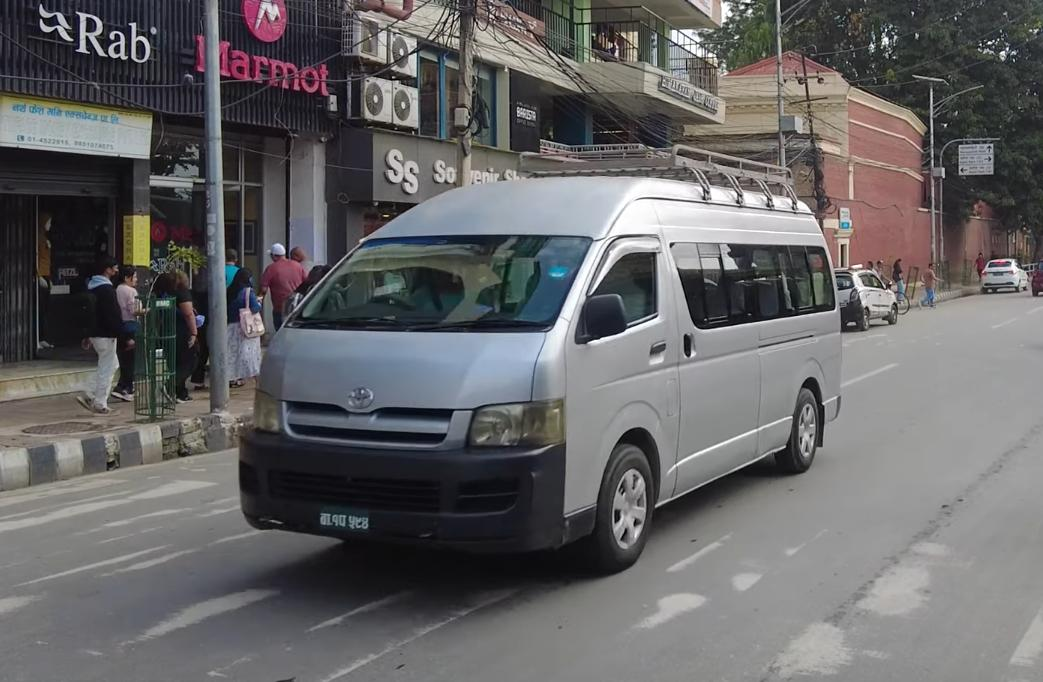car: (980, 255, 1031, 297)
micro_bus: (232, 140, 847, 583)
taxi: (830, 263, 903, 333)
